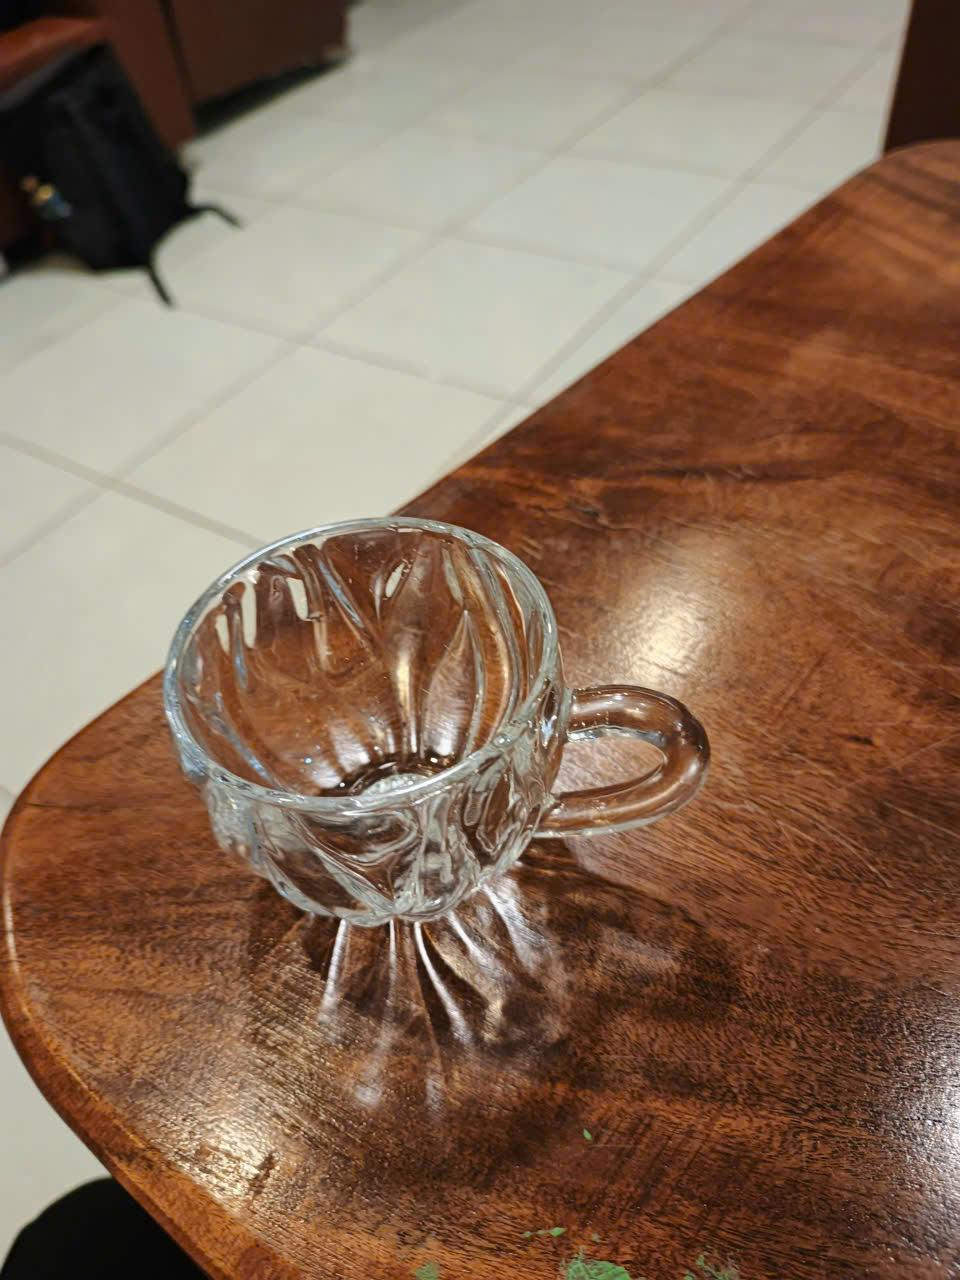Vo co: (167, 518, 706, 931)
